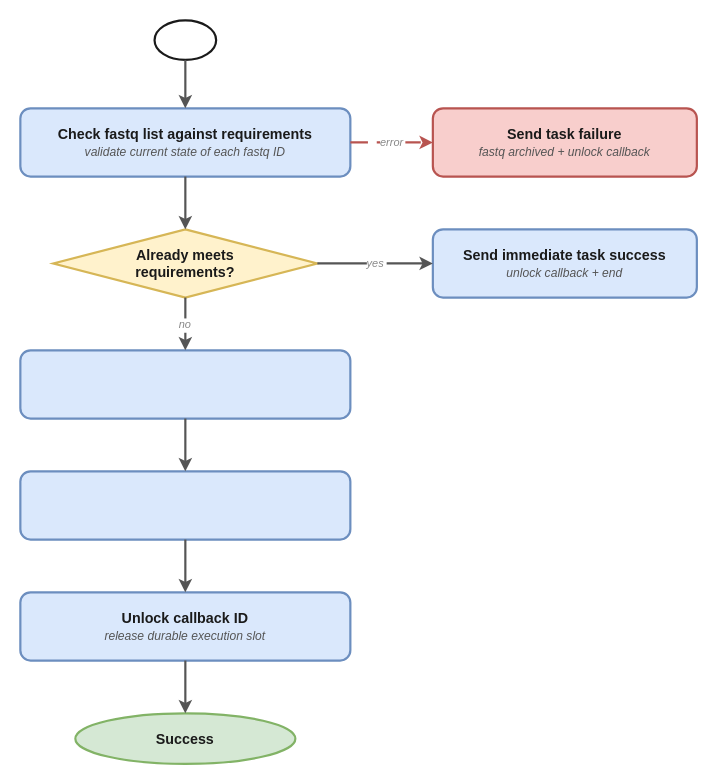
This 716x783 diagram has some shape labels left out. The shapes that lost their labels are listed below. From the top down, each one's centre as x and y in pixels, then its label:
At point 185,40: "Start".
At point 185,384: "Register task token in DynamoDB store token + fastq IDs + enable heartbeat".
At point 185,505: "Launch requirements for each fastq ID start sub-SFN per fastq ID".
